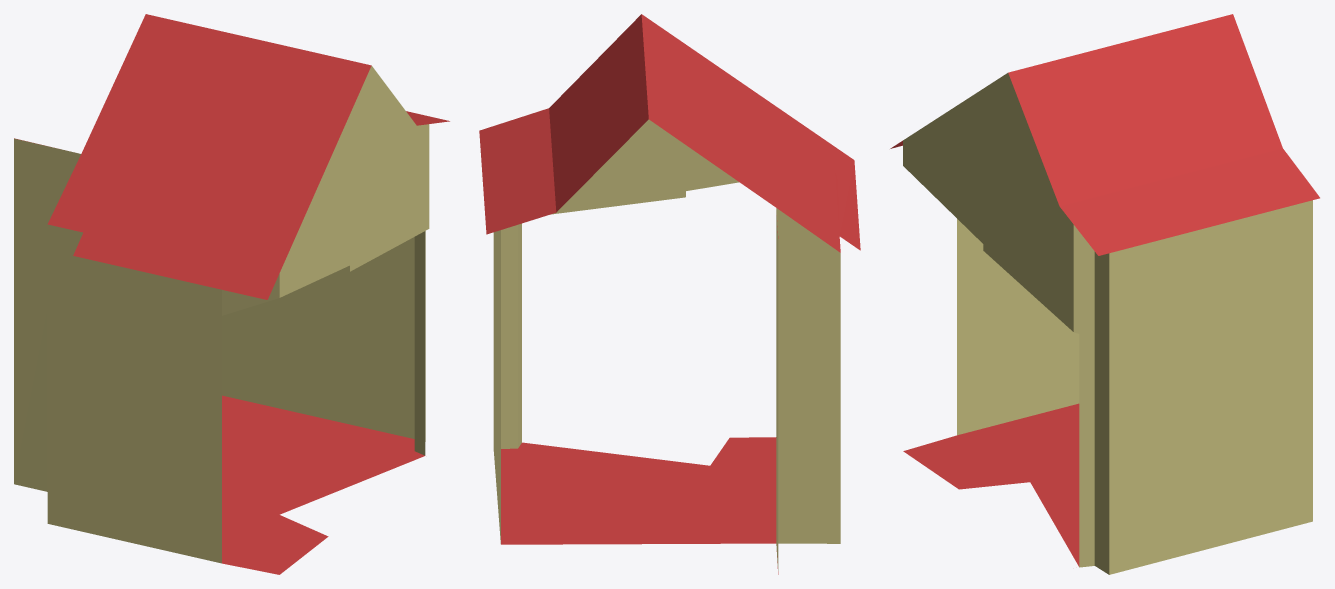
3 views of the same model, side by side, from view 1: azimuth 30°, elevation 25°; view 2: azimuth 150°, elevation 25°; view 3: azimuth 270°, elevation 25° (orthographic). The views are drawn at different scales.
Bounding box in the file's own units: 14.07 × 13.14 × 15.16.
